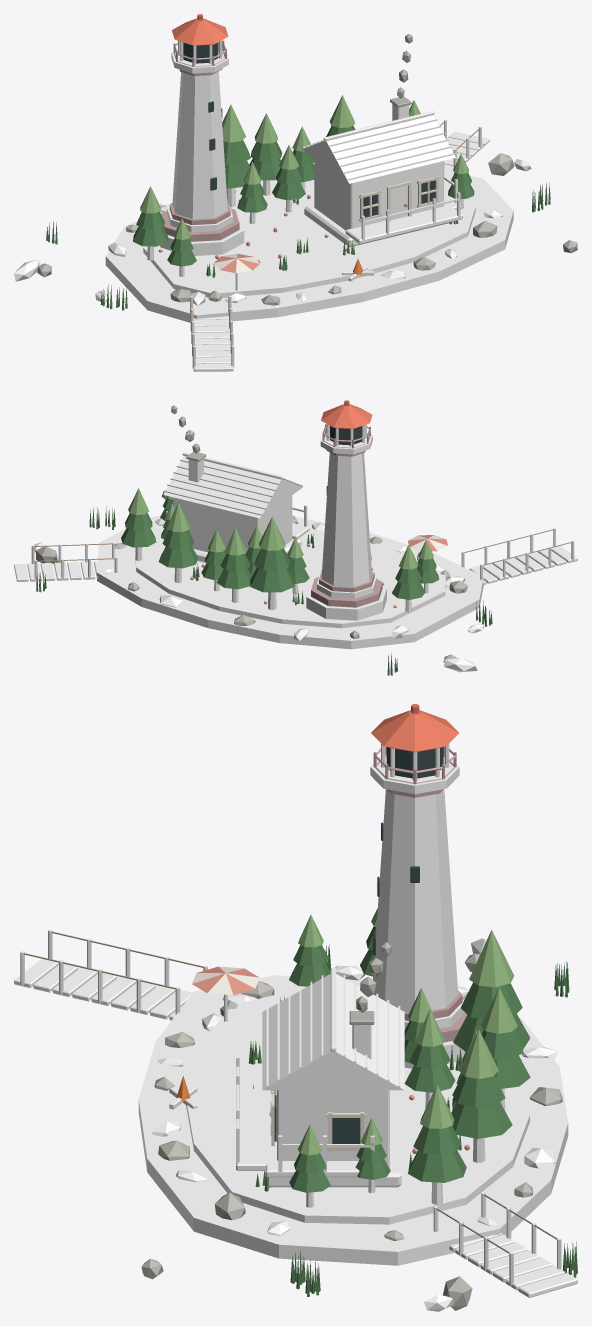
The model's file is lighthouse-island.glb.
The picture shows the model from 3 angles, top to bottom: view 1: azimuth 30°, elevation 25°; view 2: azimuth 150°, elevation 25°; view 3: azimuth 270°, elevation 25°; orthographic projection. The views are drawn at different scales.
Visible parts, largest first — view 1: GEO-island_grass, GEO-island_sand, GEO-lighthouse_tower, GEO-cabin_roof, GEO-cabin_body, GEO-cabin_deck_front, GEO-lighthouse_roof, GEO-lighthouse_foundation, GEO-cabin_foundation, GEO-lighthouse_base_lower, GEO-umbrella_canopy, GEO-lighthouse_gallery_floor (+12 smaller); view 2: GEO-island_sand, GEO-island_grass, GEO-lighthouse_tower, GEO-cabin_roof, GEO-cabin_body, GEO-lighthouse_foundation, GEO-lighthouse_roof, GEO-tree_03_foliage_low, GEO-lighthouse_base_lower, GEO-tree_06_foliage_low, GEO-tree_03_foliage_mid, GEO-tree_04_foliage_low (+15 smaller); view 3: GEO-island_sand, GEO-island_grass, GEO-lighthouse_tower, GEO-cabin_roof, GEO-cabin_body, GEO-cabin_deck_front, GEO-lighthouse_roof, GEO-cabin_foundation, GEO-tree_06_foliage_low, GEO-umbrella_canopy, GEO-tree_07_foliage_low, GEO-tree_03_foliage_top (+16 smaller).
Boxes of the visible parts, x1=… form: GEO-island_grass: x1=143, y1=180, x2=475, y2=297; GEO-island_sand: x1=105, y1=169, x2=513, y2=322; GEO-lighthouse_tower: x1=172, y1=71, x2=227, y2=219; GEO-cabin_roof: x1=302, y1=115, x2=455, y2=183; GEO-cabin_body: x1=314, y1=158, x2=443, y2=230; GEO-cabin_deck_front: x1=345, y1=205, x2=462, y2=243; GEO-lighthouse_roof: x1=172, y1=18, x2=228, y2=45; GEO-lighthouse_foundation: x1=160, y1=215, x2=244, y2=255; GEO-cabin_foundation: x1=304, y1=204, x2=452, y2=247; GEO-lighthouse_base_lower: x1=161, y1=208, x2=239, y2=241; GEO-umbrella_canopy: x1=214, y1=253, x2=259, y2=273; GEO-lighthouse_gallery_floor: x1=171, y1=49, x2=228, y2=73; GEO-island_sand: x1=97, y1=515, x2=483, y2=649; GEO-island_grass: x1=135, y1=526, x2=445, y2=628; GEO-lighthouse_tower: x1=321, y1=452, x2=371, y2=586; GEO-cabin_roof: x1=163, y1=456, x2=302, y2=518; GEO-cabin_body: x1=174, y1=495, x2=292, y2=554; GEO-lighthouse_foundation: x1=306, y1=583, x2=386, y2=620; GEO-lighthouse_roof: x1=321, y1=404, x2=372, y2=428; GEO-tree_03_foliage_low: x1=250, y1=567, x2=294, y2=592; GEO-lighthouse_base_lower: x1=311, y1=577, x2=382, y2=607; GEO-tree_06_foliage_low: x1=158, y1=546, x2=198, y2=568; GEO-tree_03_foliage_mid: x1=254, y1=548, x2=290, y2=570; GEO-tree_04_foliage_low: x1=216, y1=569, x2=251, y2=589; GEO-island_sand: x1=138, y1=975, x2=568, y2=1265; GEO-island_grass: x1=186, y1=991, x2=529, y2=1224; GEO-lighthouse_tower: x1=373, y1=789, x2=458, y2=1012; GEO-cabin_roof: x1=262, y1=974, x2=404, y2=1090; GEO-cabin_body: x1=277, y1=1090, x2=389, y2=1168; GEO-cabin_deck_front: x1=236, y1=1089, x2=276, y2=1170; GEO-lighthouse_roof: x1=371, y1=710, x2=458, y2=751; GEO-cabin_foundation: x1=265, y1=1097, x2=401, y2=1187; GEO-tree_06_foliage_low: x1=451, y1=1102, x2=512, y2=1138; GEO-umbrella_canopy: x1=192, y1=966, x2=259, y2=995; GEO-tree_07_foliage_low: x1=408, y1=1150, x2=466, y2=1182; GEO-tree_03_foliage_top: x1=469, y1=930, x2=513, y2=987.
Size of the model in its own units: 20.39 by 9.68 by 13.26.
